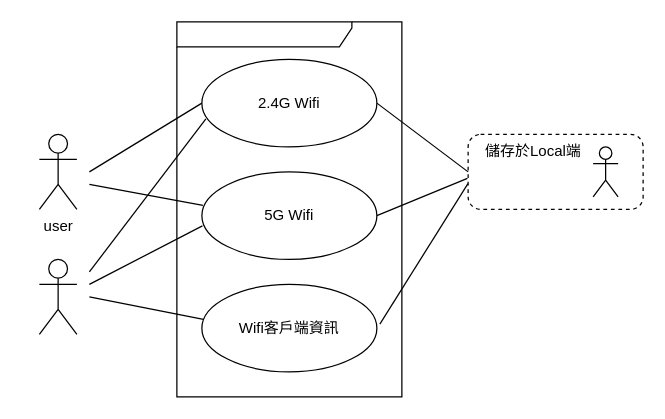
Some shapes in this 665 by 419 pixel diagram are drawn without their labels. The centre of each missing label's shape, as x and y in pixels:
power user: the point at 57,296
Web管理介面: the point at 289,209
